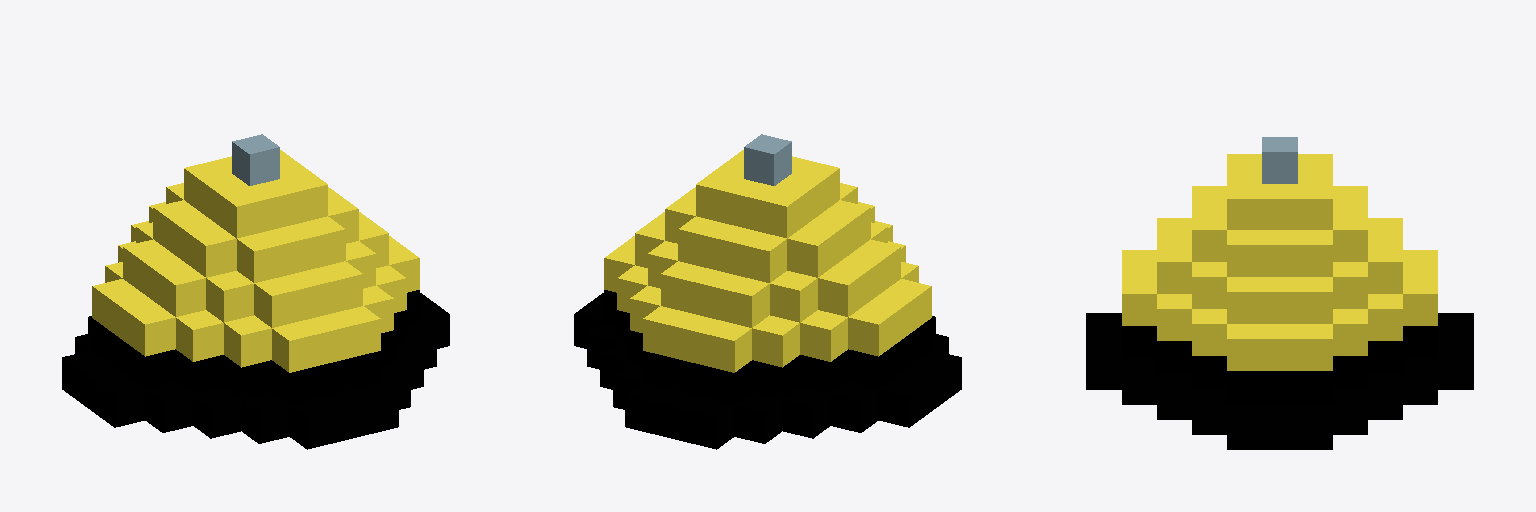
3 views of the same model, side by side, from view 1: azimuth 30°, elevation 25°; view 2: azimuth 150°, elevation 25°; view 3: azimuth 270°, elevation 25° (orthographic).
Parts seen in each view (by area): view 1: object 1; view 2: object 1; view 3: object 1.
Boxes of the visible parts, <box> form: object 1: <box>62,134,449,449</box>; object 1: <box>574,134,961,449</box>; object 1: <box>1086,137,1473,449</box>.
Size of the model in its own units: 1.1 by 0.7 by 1.1.
Materials: 1 (1 with a texture image).